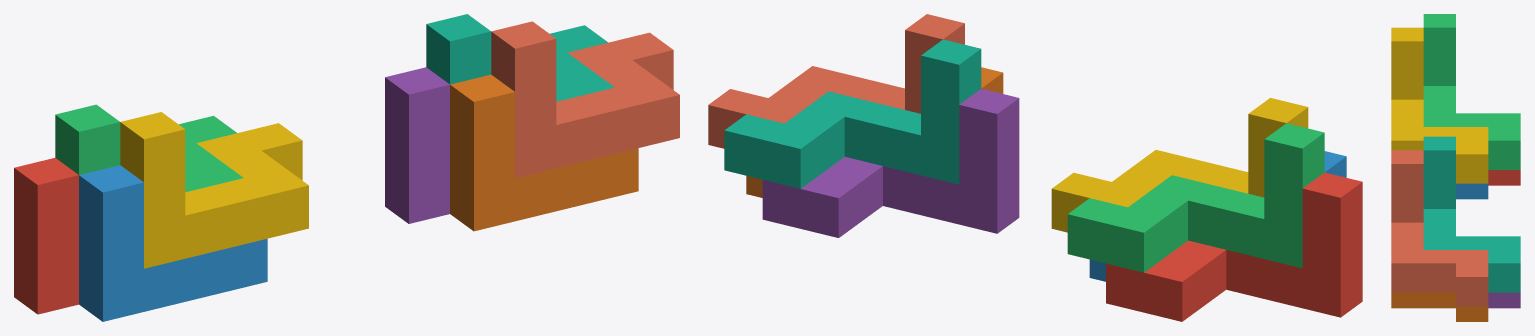
Rendered from tiling.obj.
The picture shows the model from 3 angles, left to right: view 1: azimuth 30°, elevation 25°; view 2: azimuth 150°, elevation 25°; view 3: azimuth 270°, elevation 25°; orthographic projection. The views are drawn at different scales.
Visible parts, largest first — view 1: copy_1_domain_4, copy_1_domain_8, copy_1_domain_6, copy_1_domain_2, copy_1_domain_1, copy_1_domain_5, copy_1_domain_7, copy_1_domain_3; view 2: copy_1_domain_7, copy_1_domain_3, copy_1_domain_5, copy_1_domain_1, copy_1_domain_4, copy_1_domain_8, copy_1_domain_6, copy_1_domain_2; view 3: copy_1_domain_8, copy_1_domain_4, copy_1_domain_7, copy_1_domain_3, copy_1_domain_6, copy_1_domain_5, copy_1_domain_2, copy_1_domain_1.
Part boxes in pixels (x1,y1,x2,y2): copy_1_domain_4: (120, 112, 308, 268); copy_1_domain_8: (491, 21, 679, 178); copy_1_domain_6: (450, 74, 638, 231); copy_1_domain_2: (79, 165, 267, 321); copy_1_domain_1: (14, 158, 78, 314); copy_1_domain_5: (385, 67, 449, 223); copy_1_domain_7: (426, 14, 614, 101); copy_1_domain_3: (55, 104, 243, 192); copy_1_domain_7: (724, 39, 981, 188); copy_1_domain_3: (1067, 123, 1324, 272); copy_1_domain_5: (762, 88, 1019, 237); copy_1_domain_1: (1106, 172, 1362, 321); copy_1_domain_4: (1051, 98, 1308, 232); copy_1_domain_8: (708, 14, 964, 148); copy_1_domain_6: (746, 67, 1003, 197); copy_1_domain_2: (1089, 151, 1346, 281); copy_1_domain_8: (1391, 150, 1488, 306); copy_1_domain_4: (1391, 27, 1488, 183); copy_1_domain_7: (1423, 136, 1520, 292); copy_1_domain_3: (1423, 14, 1520, 169); copy_1_domain_6: (1391, 292, 1488, 321); copy_1_domain_5: (1488, 292, 1520, 308); copy_1_domain_2: (1456, 183, 1488, 199); copy_1_domain_1: (1488, 170, 1520, 185).
Bounding box in the file's own units: 16 × 4 × 4.
